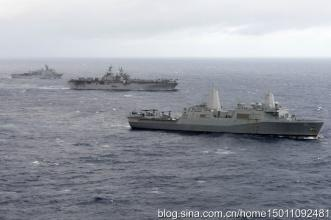warship: (125, 84, 324, 137), (68, 65, 185, 92), (10, 60, 69, 82)
